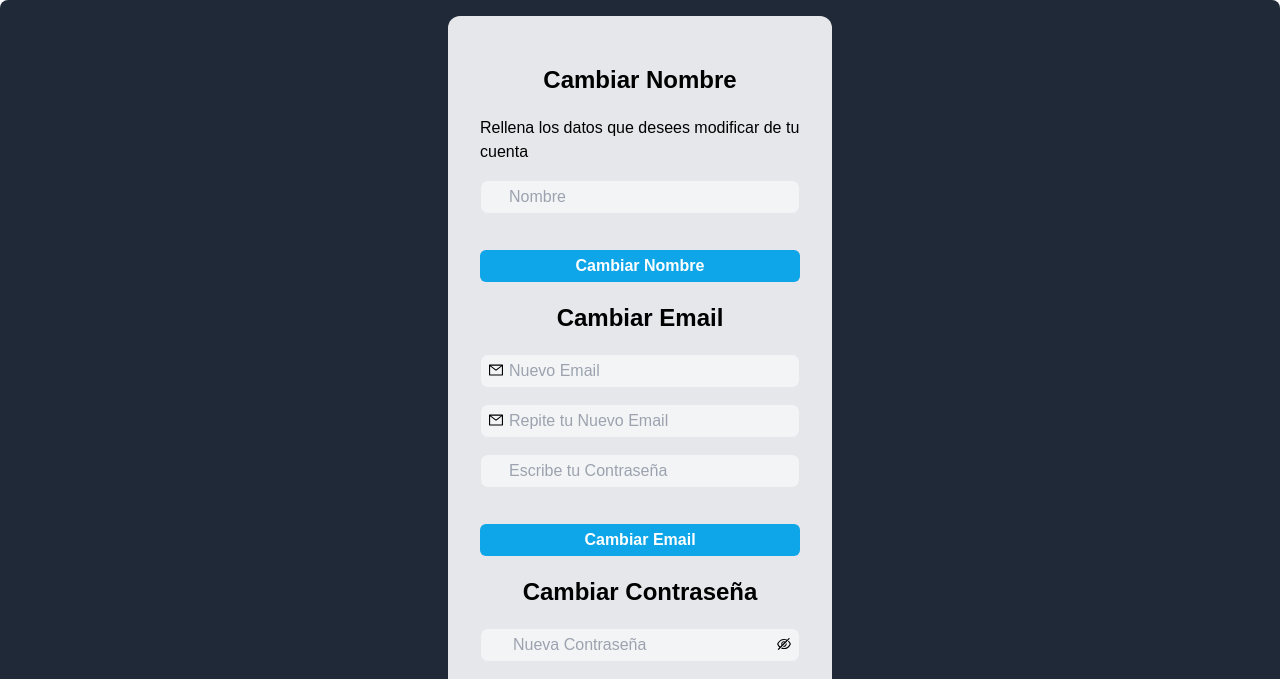
Error message is shown when set_email fails
Click the button "Cambiar Email". click: (640, 540)
box: [480,524,800,556]
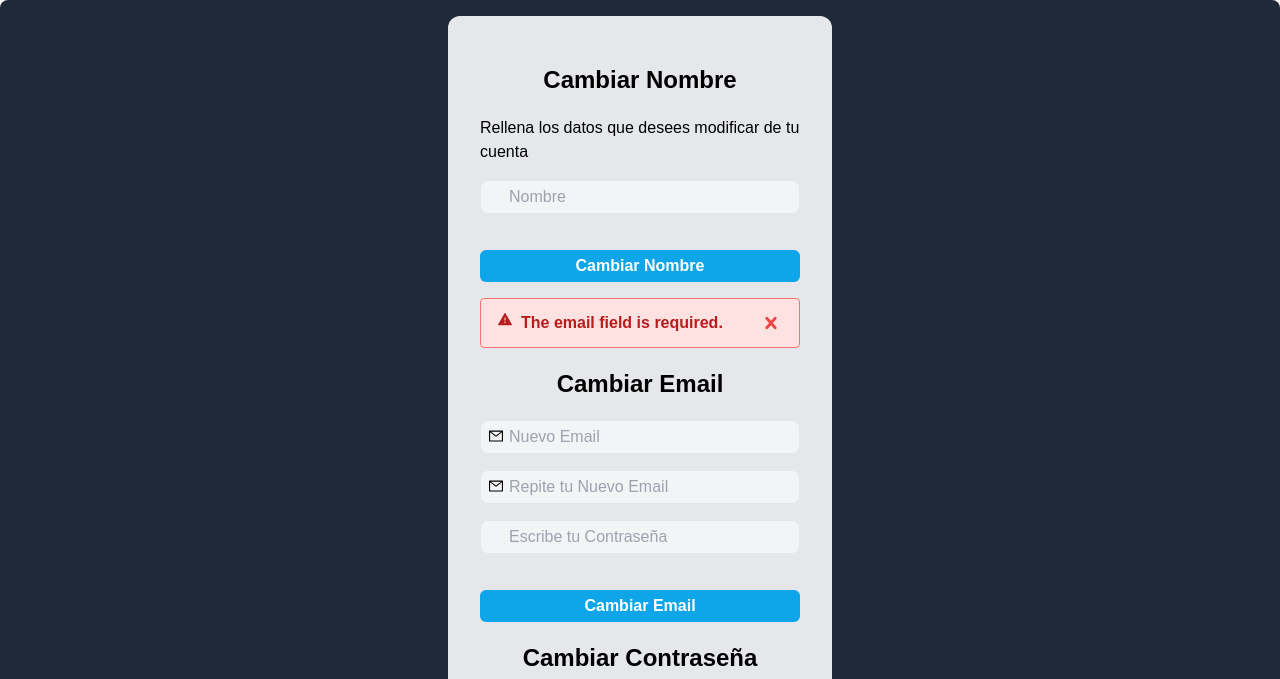
Now the text "The email field is required." is shown, box [521,311,723,335]
